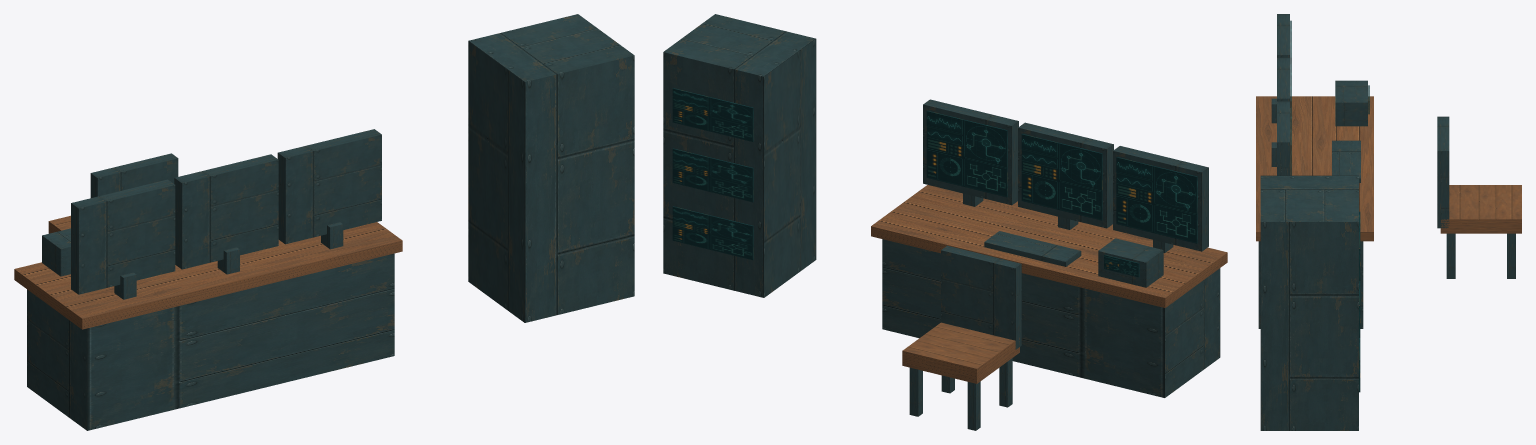
File: SM_BunkerControl_Consoles.fbx
3 renders of one model, left to right at view 1: azimuth 30°, elevation 25°; view 2: azimuth 150°, elevation 25°; view 3: azimuth 270°, elevation 25°, orthographic. The views are drawn at different scales.
Parts seen in each view (by area): view 1: SM_BunkerControl_Consoles; view 2: SM_BunkerControl_Consoles; view 3: SM_BunkerControl_Consoles.
Part boxes in pixels (x1,y1,x2,y2): SM_BunkerControl_Consoles: [14, 14, 634, 430]; SM_BunkerControl_Consoles: [663, 14, 1227, 430]; SM_BunkerControl_Consoles: [1256, 14, 1521, 430].
Size of what is drawn, in the model's own units: 425 by 203 by 176.
